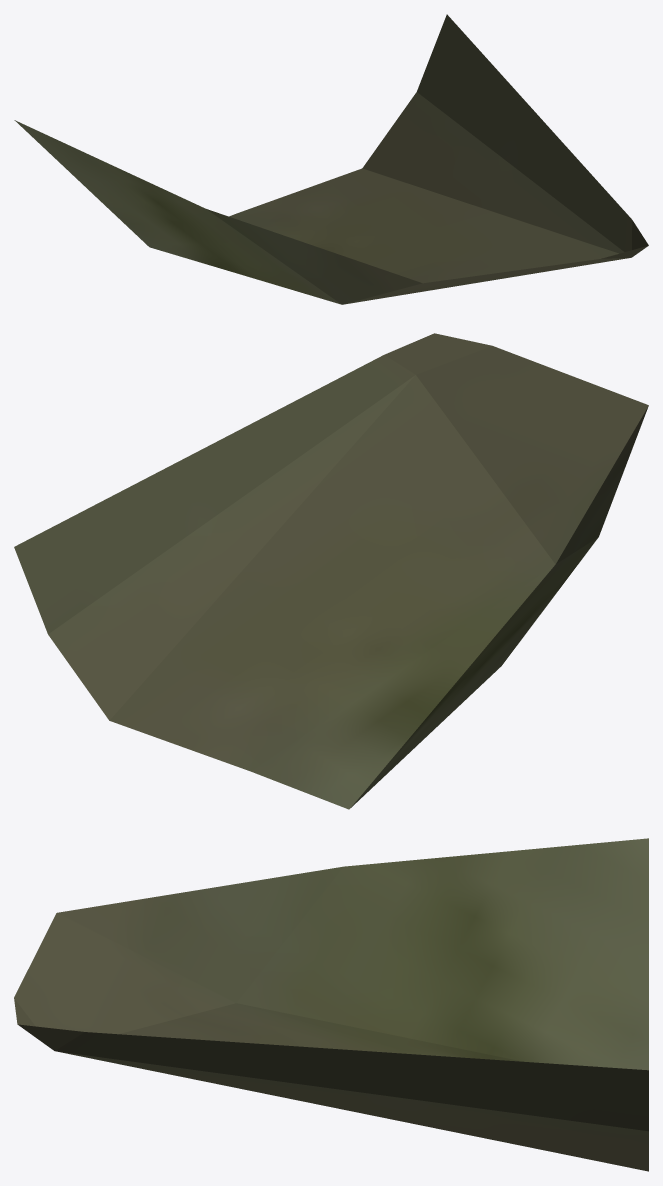
3 renders of one model, top to bottom at view 1: azimuth 30°, elevation 25°; view 2: azimuth 150°, elevation 25°; view 3: azimuth 270°, elevation 25°, orthographic. The views are drawn at different scales.
Bounding box in the file's own units: 0.1584 × 0.0561 × 0.1832.
Materials: 1 (1 with a texture image).
